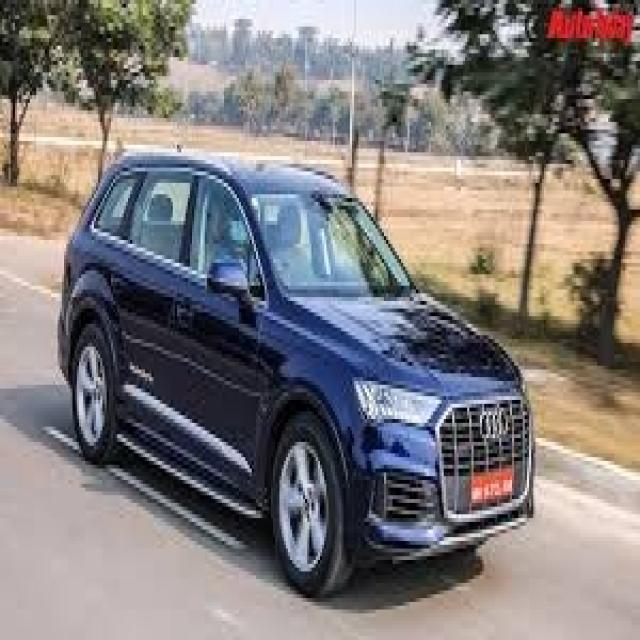blue: (60, 142, 543, 578)
